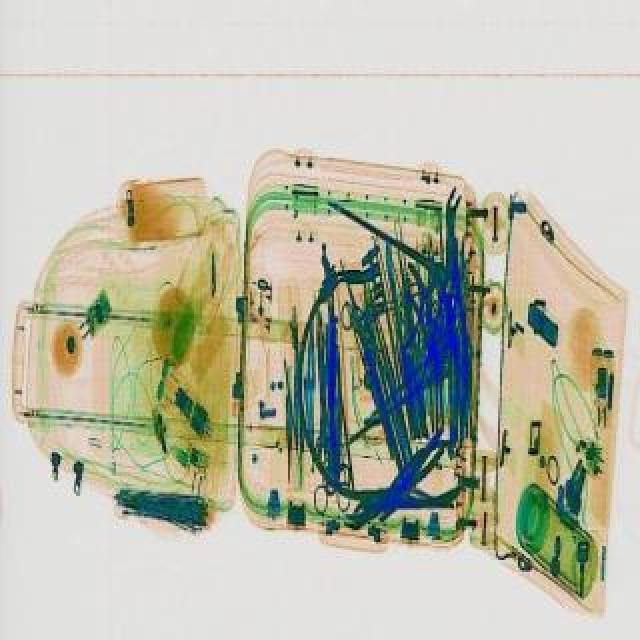pliers: (312, 416, 352, 510), (334, 300, 378, 370)
